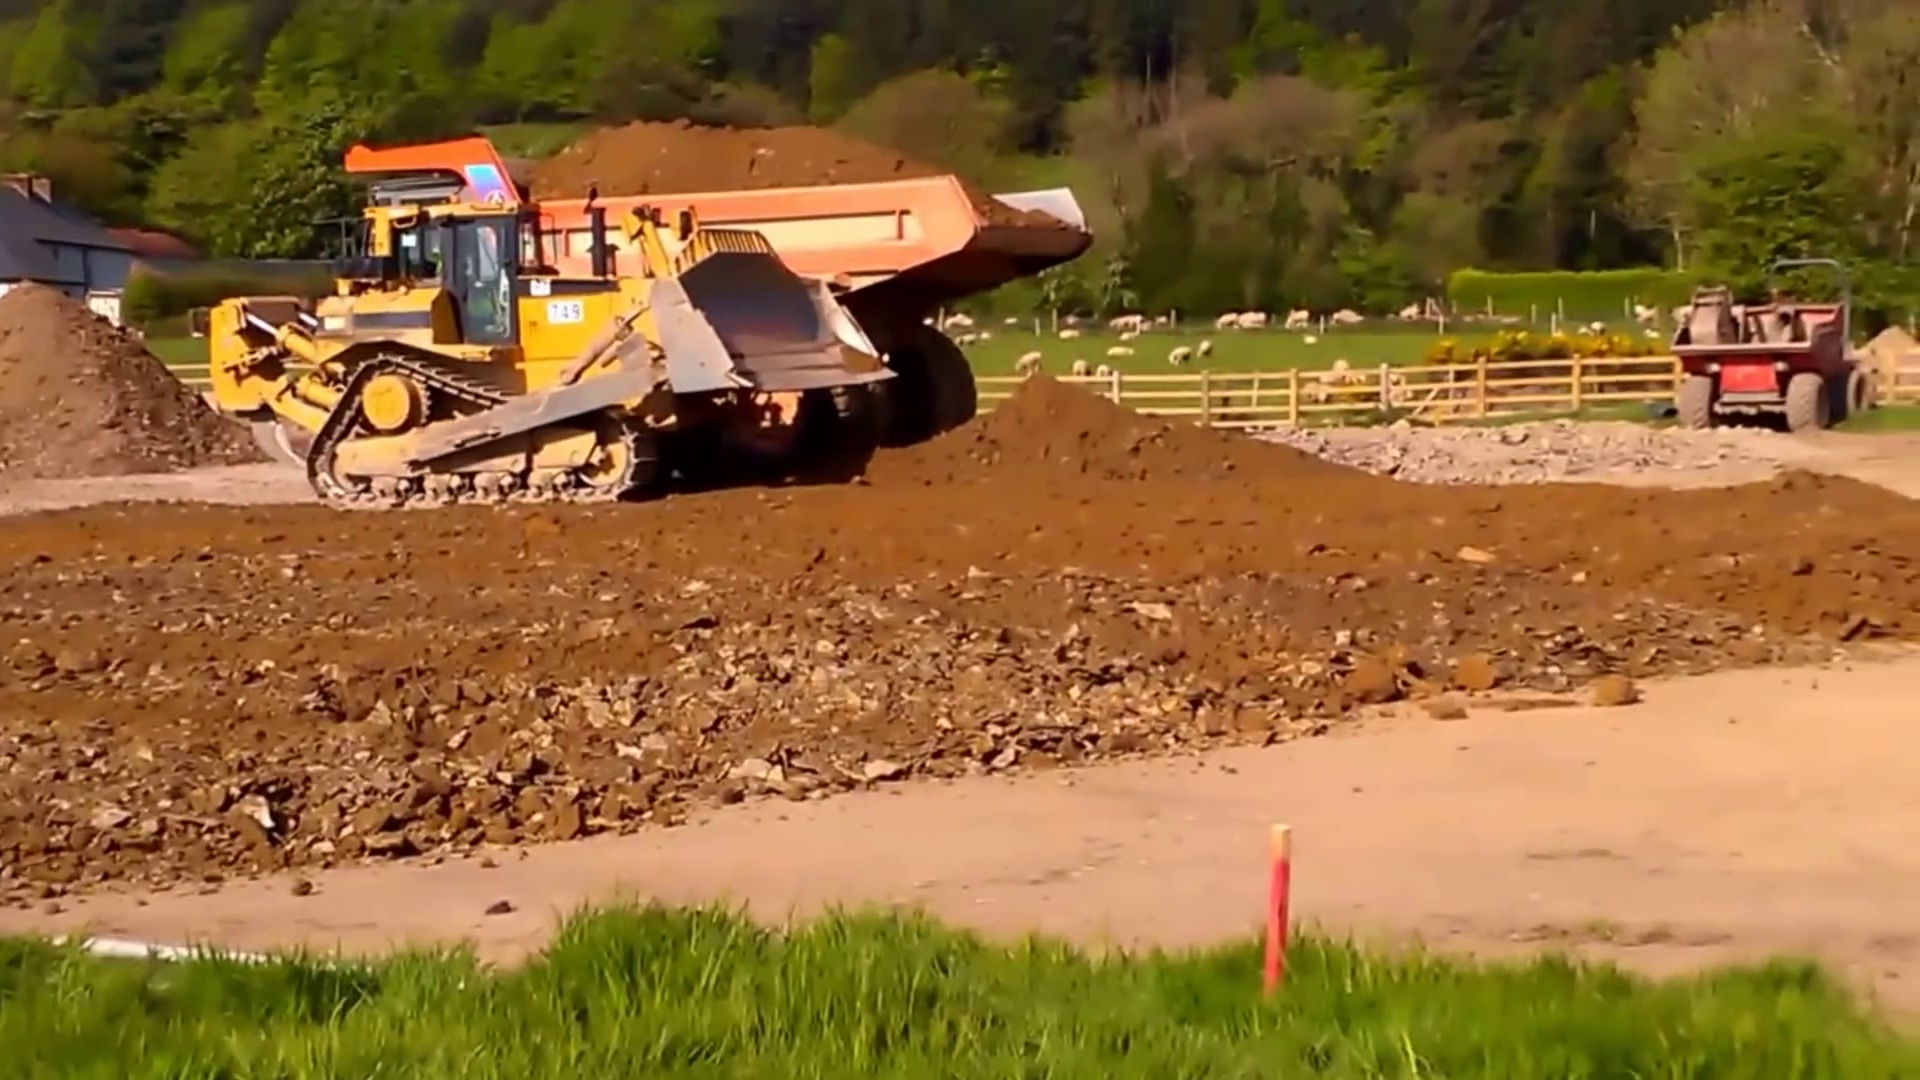bulldozer: (210, 200, 894, 501)
truck: (342, 127, 1098, 436)
